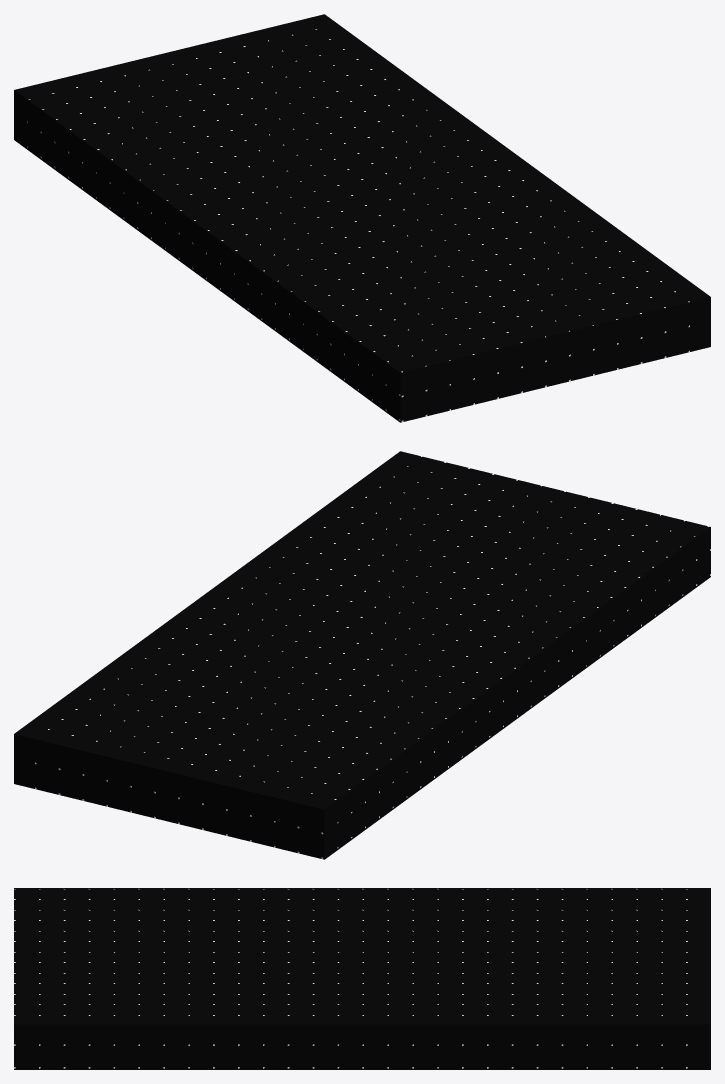
File: materasso_usv.gltf
3 views of the same model, one above another, from view 1: azimuth 30°, elevation 25°; view 2: azimuth 150°, elevation 25°; view 3: azimuth 270°, elevation 25° (orthographic). The views are drawn at different scales.
Parts seen in each view (by area): view 1: Layer.1; view 2: Layer.1; view 3: Layer.1.
Boxes of the visible parts, x1,y1,x2,y2 form: Layer.1: [14, 14, 710, 422]; Layer.1: [14, 451, 710, 859]; Layer.1: [14, 888, 710, 1069].
Bounding box in the file's own units: 13 × 2 × 28.
Materials: 1 (1 with a texture image).
